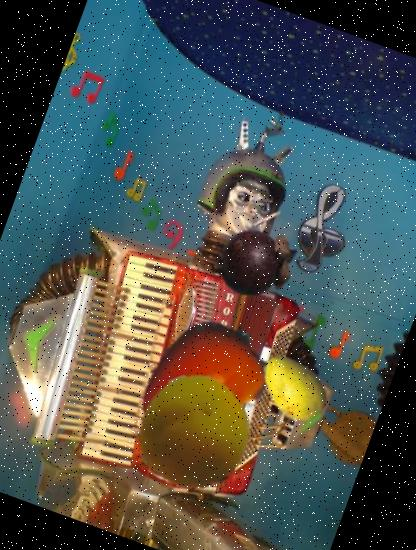Kaki: (113, 297, 291, 475)
Mangostan: (207, 213, 308, 314)
Peach: (120, 359, 264, 504)
Pear: (244, 339, 340, 435)
